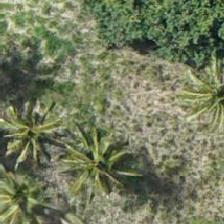coconut_tree: (55, 116, 145, 206), (0, 82, 76, 172), (174, 48, 223, 138), (0, 151, 58, 223)
